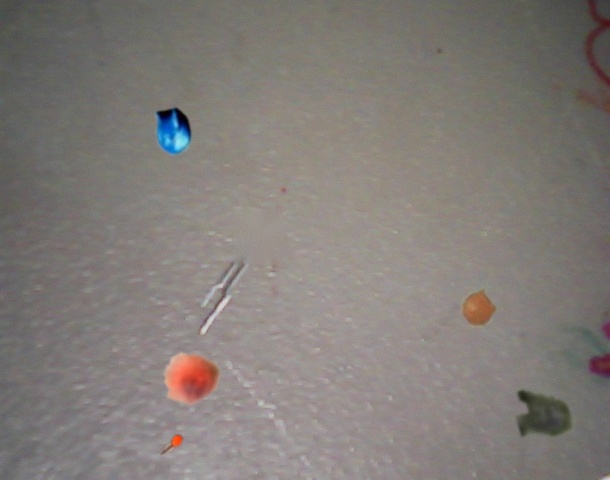capacitor: (164, 353, 221, 406), (516, 390, 574, 437), (155, 108, 192, 155), (461, 287, 497, 327), (160, 435, 183, 455)
